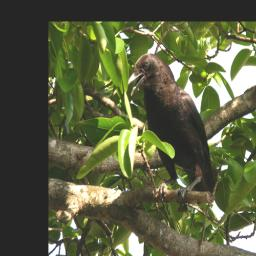Crow: (125, 50, 218, 205)
